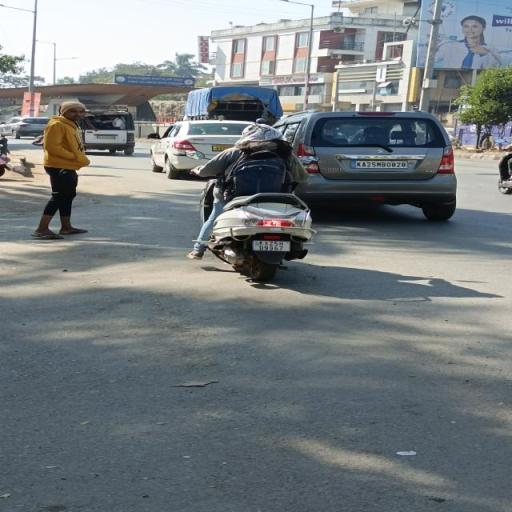bike: (171, 120, 337, 286)
numberplate: (250, 239, 291, 253)
withouthelmet: (242, 124, 273, 141)
